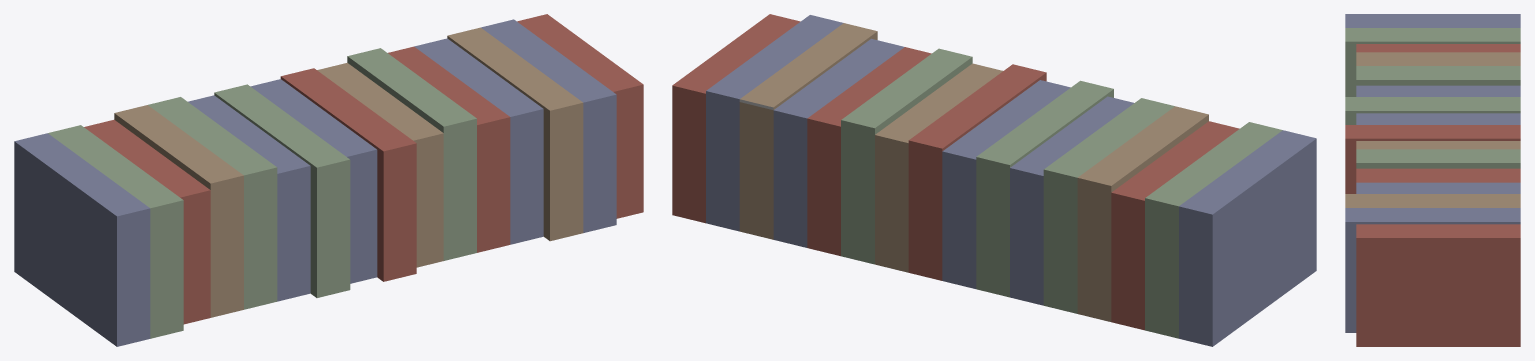
File: low_poly_book_bunch.glb
3 renders of one model, left to right at view 1: azimuth 30°, elevation 25°; view 2: azimuth 150°, elevation 25°; view 3: azimuth 270°, elevation 25°, orthographic. The views are drawn at different scales.
Visible parts, largest first — view 1: Book_Bunch; view 2: Book_Bunch; view 3: Book_Bunch.
Part boxes in pixels (x1,y1,x2,y2): Book_Bunch: (14, 14, 643, 346); Book_Bunch: (672, 14, 1316, 346); Book_Bunch: (1345, 14, 1520, 346).
Bounding box in the file's own units: 0.0469 × 0.0113 × 0.0156.
